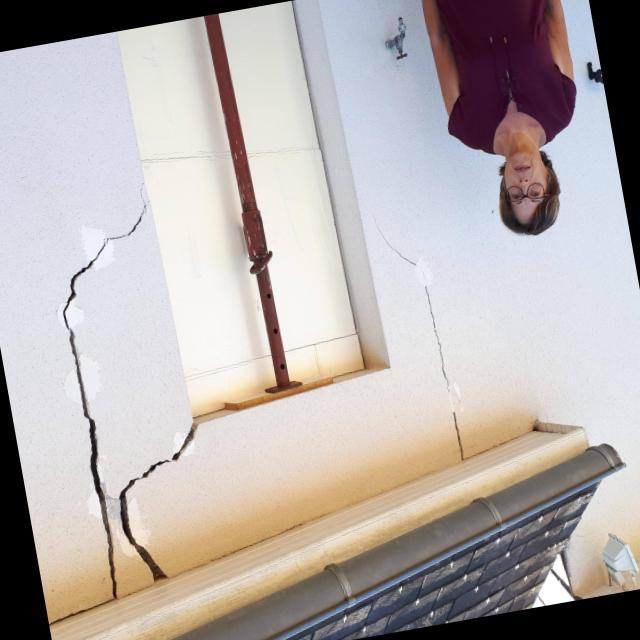crack: (68, 331, 120, 598), (118, 424, 195, 578), (58, 202, 147, 326)
